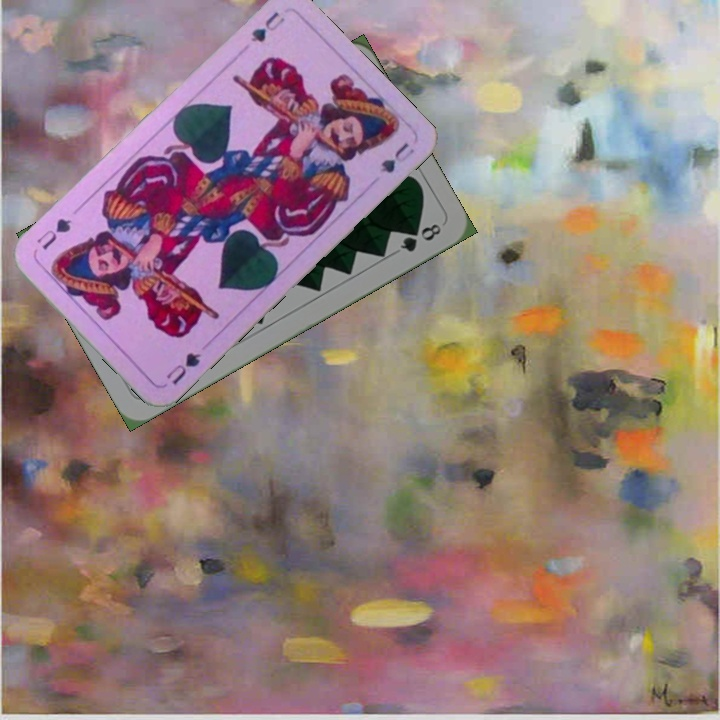GU: (161, 348, 204, 388), (246, 7, 288, 45)
